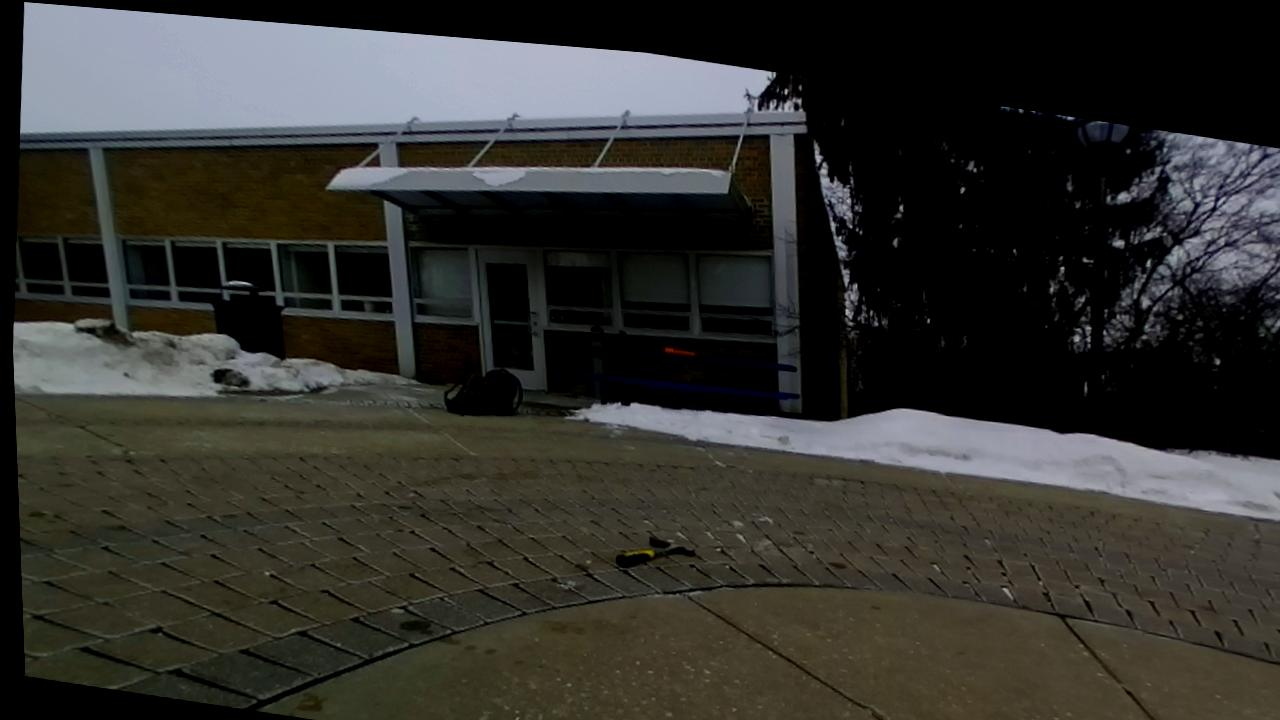pick: (615, 534, 696, 567)
